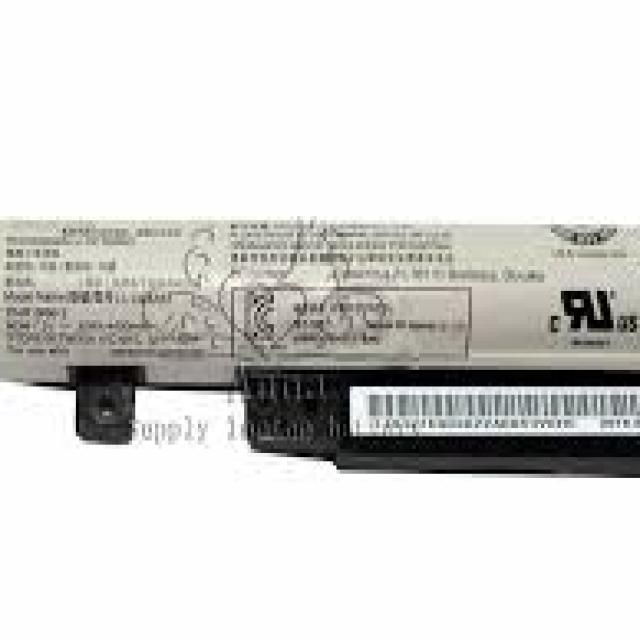organic: (3, 212, 639, 475)
